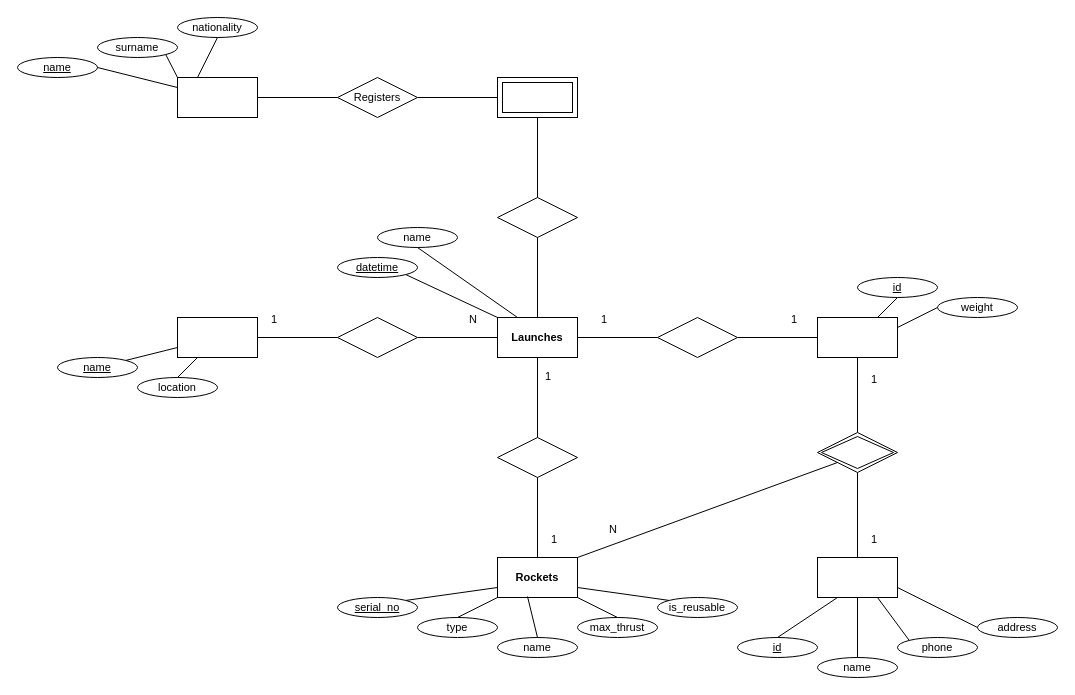
Image size: 1075x695. Some labels were removed from this diagram. The centre of each missing label's shape, as x and y in pixels:
"Carries" goes at [697,337].
"Crews" goes at [217,97].
"Hosts" goes at [377,337].
"Launchpads" goes at [217,337].
"Makes" goes at [857,452].
"Manufacturers" goes at [857,577].
"Missions" goes at [537,97].
"Payloads" goes at [857,337].
"Performs" goes at [537,457].
"Registered" goes at [537,217].
